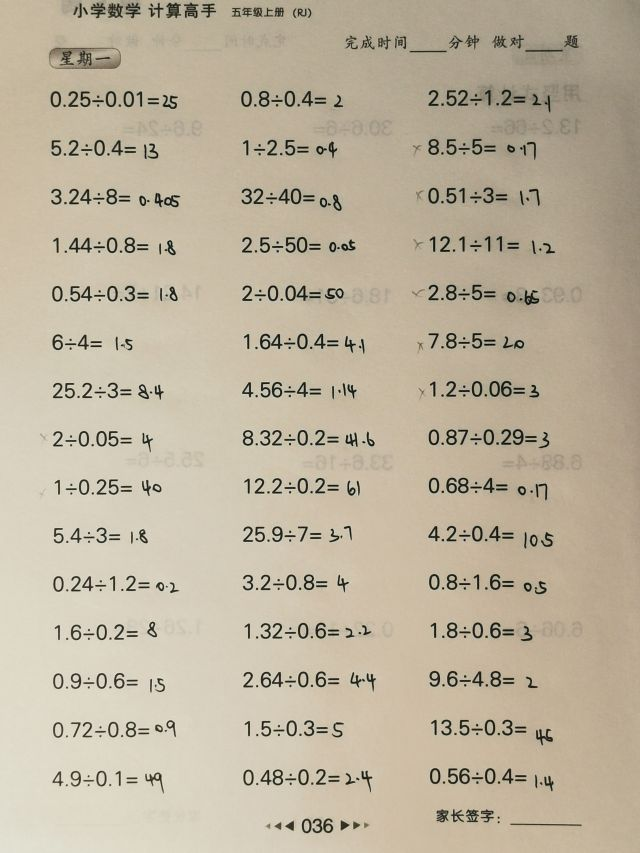equation: (425, 763, 560, 799), (47, 84, 186, 116), (238, 762, 377, 792), (427, 713, 557, 744), (410, 230, 559, 256), (423, 422, 553, 451), (425, 521, 557, 549), (407, 279, 543, 306), (409, 133, 540, 161), (239, 666, 379, 692), (238, 424, 378, 450), (47, 183, 183, 209), (48, 570, 181, 596), (423, 473, 551, 500), (240, 328, 368, 355), (411, 182, 543, 208), (423, 568, 550, 595), (48, 667, 169, 695), (48, 281, 182, 306), (415, 375, 543, 401), (242, 618, 375, 643), (48, 717, 179, 742), (48, 232, 179, 257), (239, 472, 364, 498), (238, 376, 359, 402), (46, 134, 162, 161), (48, 767, 167, 793), (237, 183, 347, 211), (49, 377, 166, 403), (47, 326, 139, 359), (425, 665, 541, 691), (239, 232, 359, 257), (238, 569, 352, 595), (48, 425, 156, 452), (239, 521, 355, 546), (236, 85, 347, 111), (414, 328, 529, 353), (50, 618, 160, 644), (426, 617, 535, 643), (240, 715, 347, 741), (52, 476, 166, 500), (239, 281, 349, 305), (239, 134, 340, 160), (50, 524, 153, 548)
